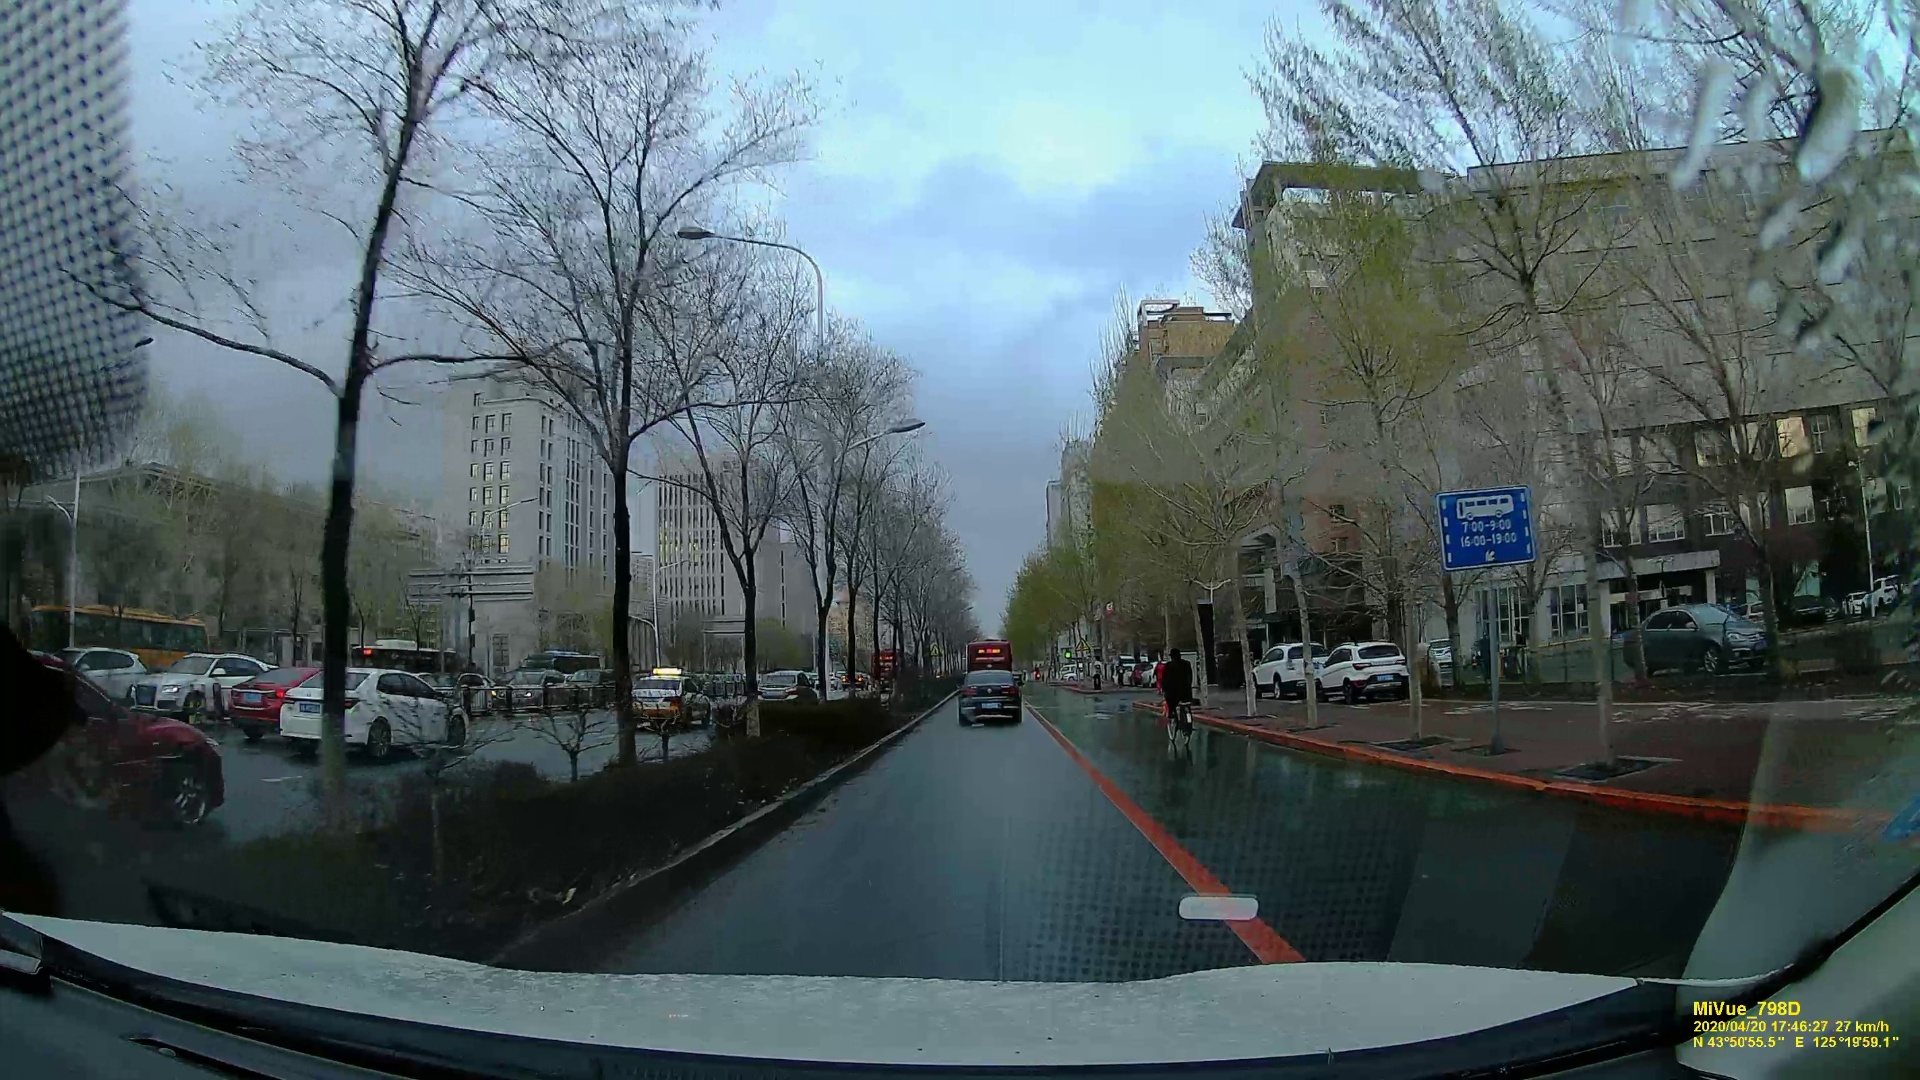bus: (966, 638, 1009, 676)
person: (1158, 648, 1200, 752)
traffic_sign: (1440, 492, 1528, 568)
vehicle: (278, 672, 471, 759), (1634, 599, 1783, 673), (633, 672, 713, 732), (957, 675, 1023, 723)
